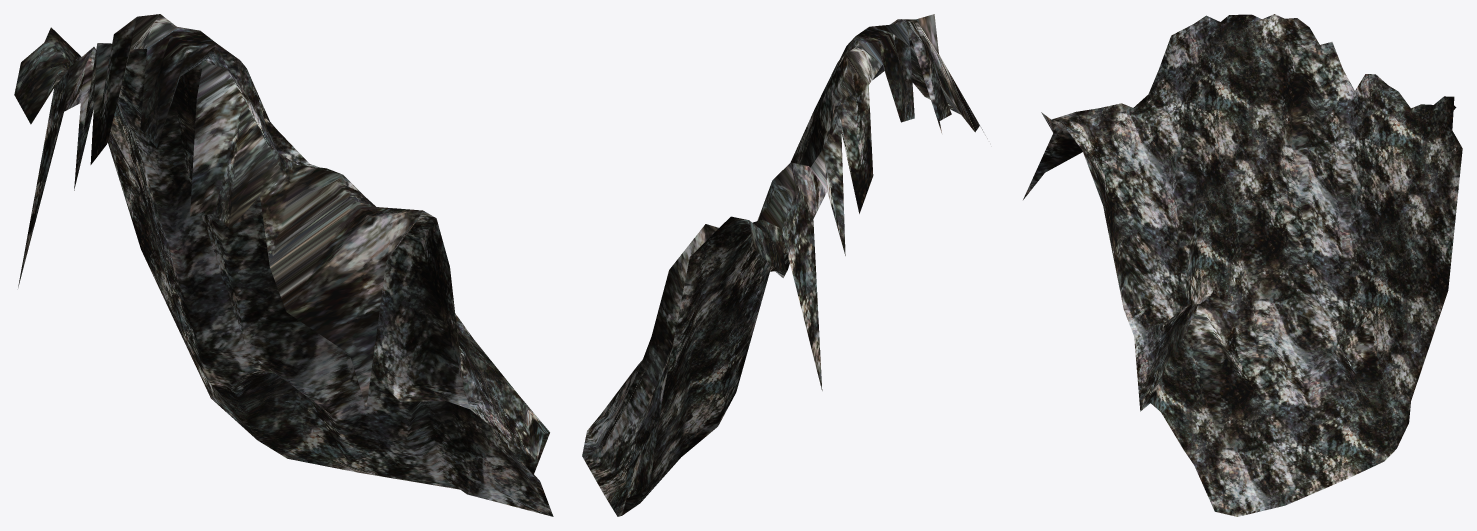
Rendered from OVERHILL_A_01_MOUN1_OBJECT143.fbx.
3 views of the same model, side by side, from view 1: azimuth 30°, elevation 25°; view 2: azimuth 150°, elevation 25°; view 3: azimuth 270°, elevation 25° (orthographic). The views are drawn at different scales.
Visible parts, largest first — view 1: OVERHILL_A_01_MOUN1_OBJECT143; view 2: OVERHILL_A_01_MOUN1_OBJECT143; view 3: OVERHILL_A_01_MOUN1_OBJECT143.
Boxes of the visible parts, x1,y1,x2,y2 form: OVERHILL_A_01_MOUN1_OBJECT143: (14, 14, 553, 516); OVERHILL_A_01_MOUN1_OBJECT143: (582, 14, 987, 516); OVERHILL_A_01_MOUN1_OBJECT143: (1023, 14, 1462, 516).
Bounding box in the file's own units: 258333 × 344030 × 358276.
1 material, 1 textured.
